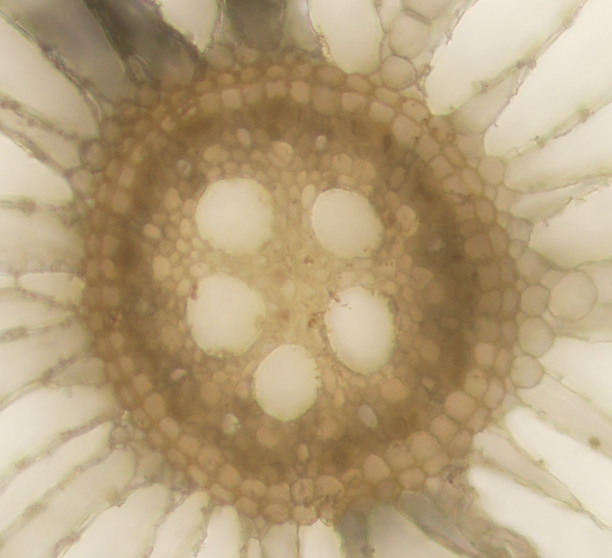lm: (187, 274, 266, 358), (193, 178, 277, 257), (325, 286, 396, 376), (252, 343, 322, 421), (311, 188, 385, 258)
